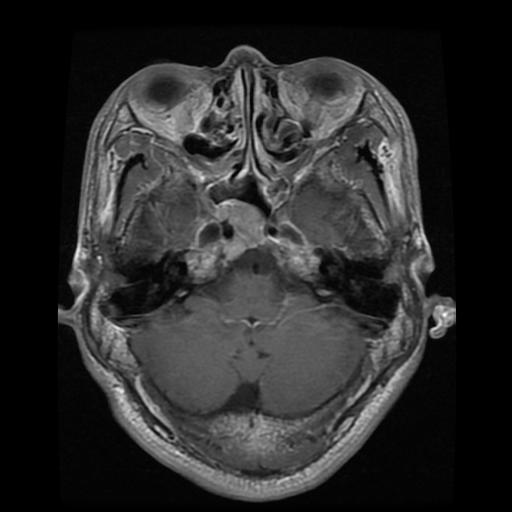Pituirity_tumour: (217, 198, 266, 253)
